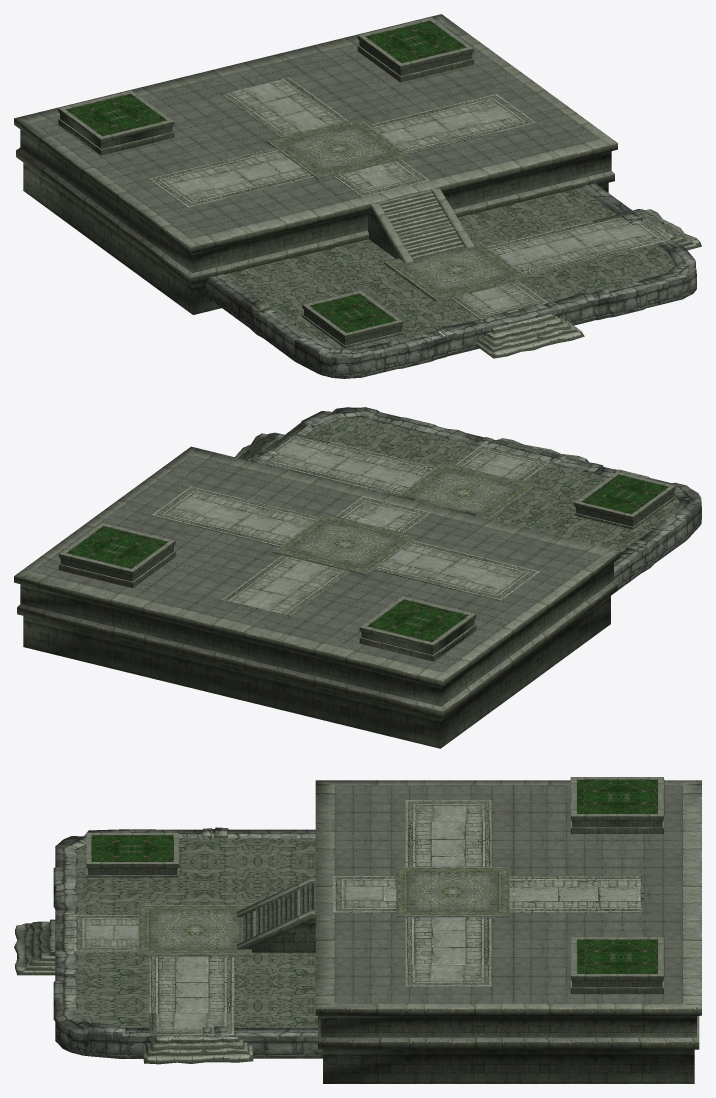
The model's file is Maincity14_Ground_01.FBX.
3 renders of one model, top to bottom at view 1: azimuth 30°, elevation 25°; view 2: azimuth 150°, elevation 25°; view 3: azimuth 270°, elevation 25°, orthographic. The views are drawn at different scales.
Parts seen in each view (by area): view 1: Maincity14_Ground_01, Maincity14_Ground_01_01; view 2: Maincity14_Ground_01, Maincity14_Ground_01_01; view 3: Maincity14_Ground_01, Maincity14_Ground_01_01.
Boxes of the visible parts, x1,y1,x2,y2 form: Maincity14_Ground_01: (14,14,701,378); Maincity14_Ground_01_01: (66,21,465,332); Maincity14_Ground_01: (14,407,701,748); Maincity14_Ground_01_01: (67,475,668,642); Maincity14_Ground_01: (14,777,701,1083); Maincity14_Ground_01_01: (91,779,664,974).
Size of the model in its own units: 7436 by 1434 by 9311.
